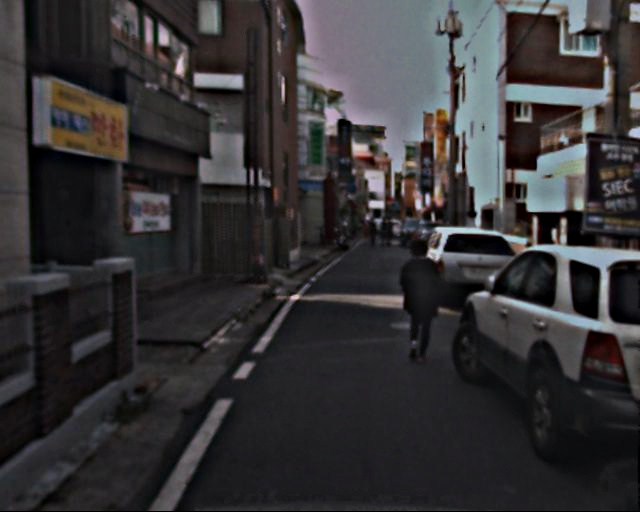person: (393, 240, 443, 362), (366, 217, 394, 247)
